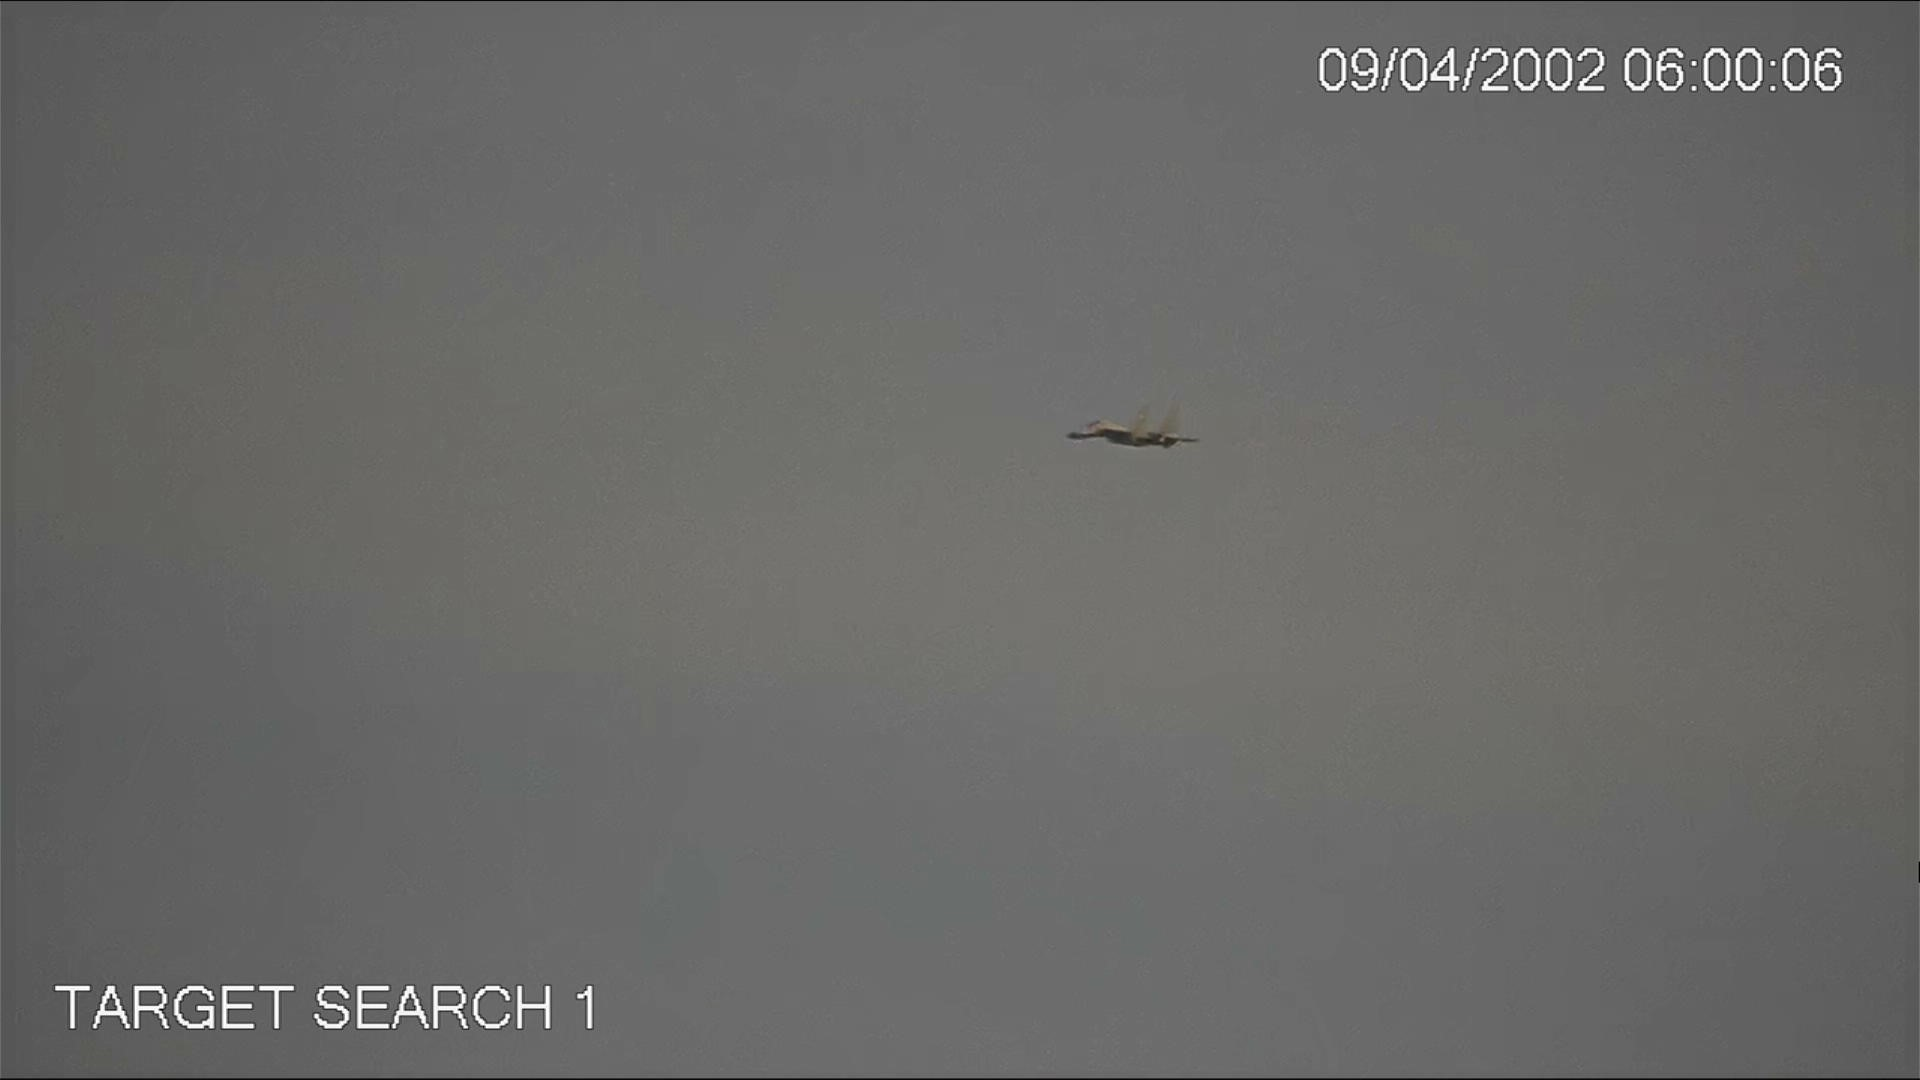SU_30: (1063, 392, 1203, 459)
